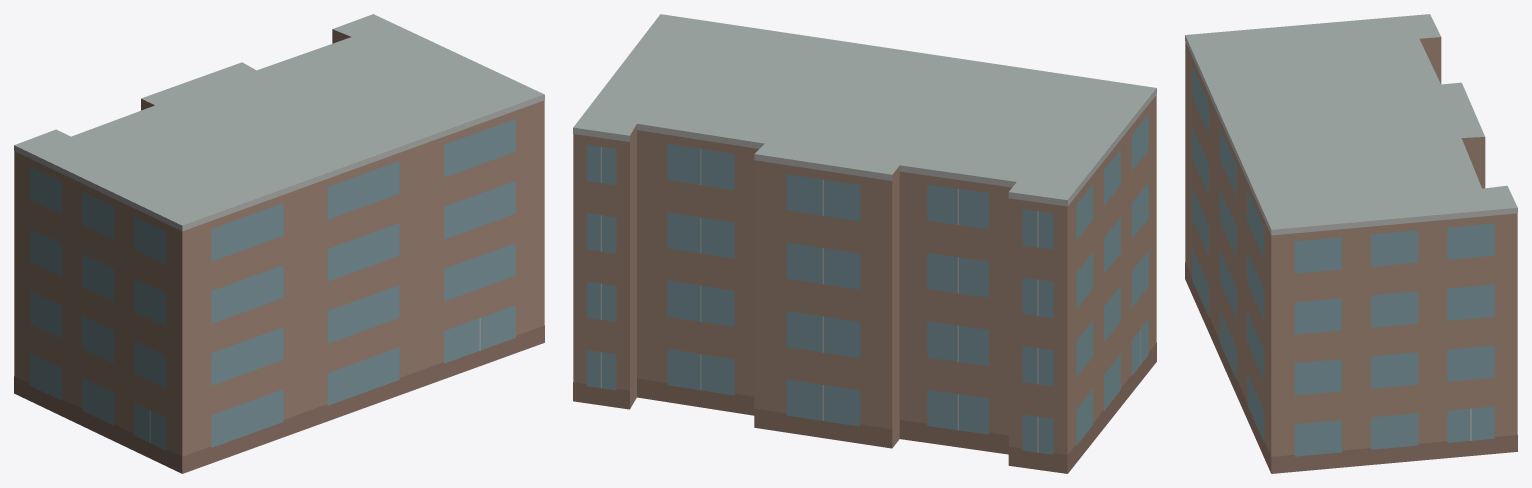
Rendered from survey-upis-32616204.glb.
The picture shows the model from 3 angles, left to right: view 1: azimuth 30°, elevation 25°; view 2: azimuth 150°, elevation 25°; view 3: azimuth 270°, elevation 25°; orthographic projection. The views are drawn at different scales.
Parts seen in each view (by area): view 1: survey-upis-32616204.tmp; view 2: survey-upis-32616204.tmp; view 3: survey-upis-32616204.tmp.
Boxes of the visible parts, x1,y1,x2,y2 form: survey-upis-32616204.tmp: (14, 14, 544, 473); survey-upis-32616204.tmp: (573, 14, 1156, 473); survey-upis-32616204.tmp: (1185, 14, 1517, 473).
Bounding box in the file's own units: 20.22 × 10.65 × 13.17.
